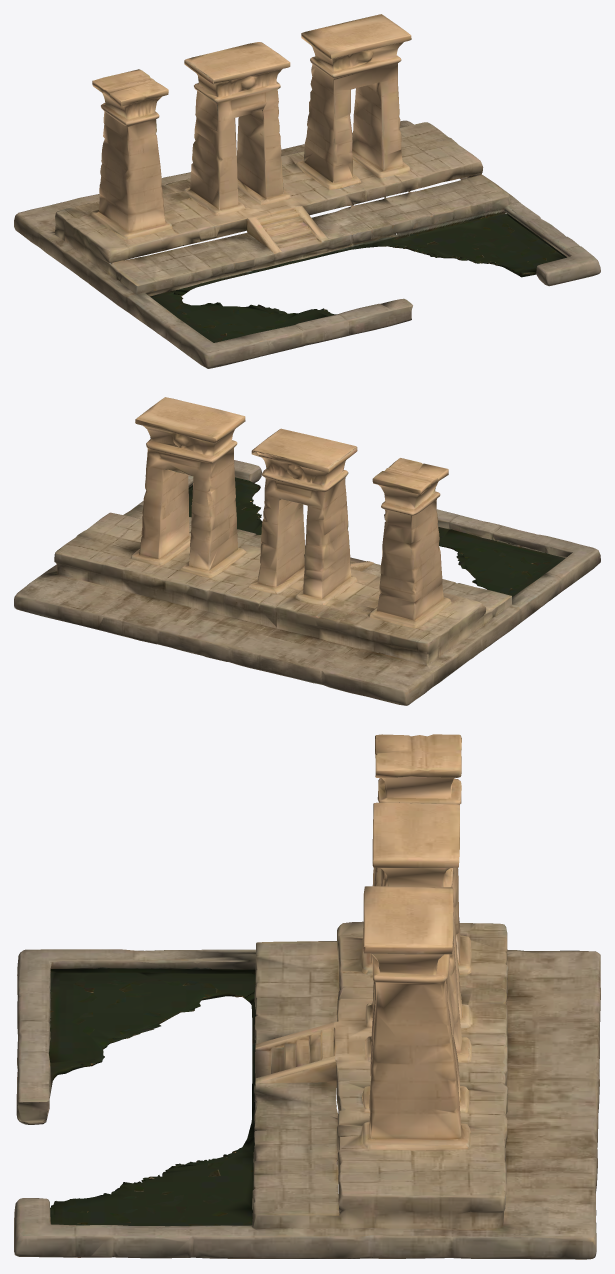
The model's file is madrid-debod.glb.
The picture shows the model from 3 angles, top to bottom: view 1: azimuth 30°, elevation 25°; view 2: azimuth 150°, elevation 25°; view 3: azimuth 270°, elevation 25°; orthographic projection. The views are drawn at different scales.
Visible parts, largest first — view 1: geometry_0; view 2: geometry_0; view 3: geometry_0.
Boxes of the visible parts, bbox=[...] form: geometry_0: bbox=[14, 14, 600, 368]; geometry_0: bbox=[14, 397, 600, 705]; geometry_0: bbox=[14, 734, 600, 1259].
Size of the model in its own units: 1 by 0.4285 by 0.8608.
1 material, 1 textured.
